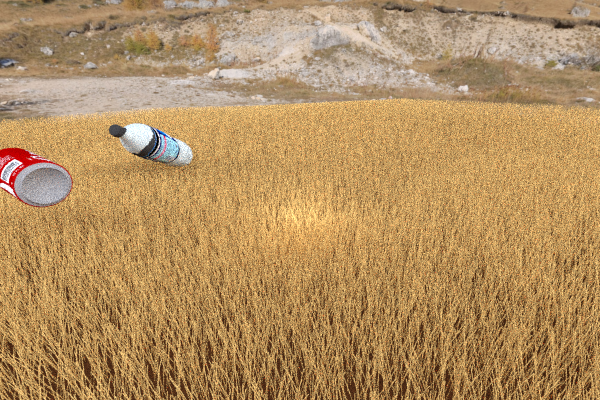Plastic Bottle: (0, 147, 72, 207), (108, 123, 192, 167)
